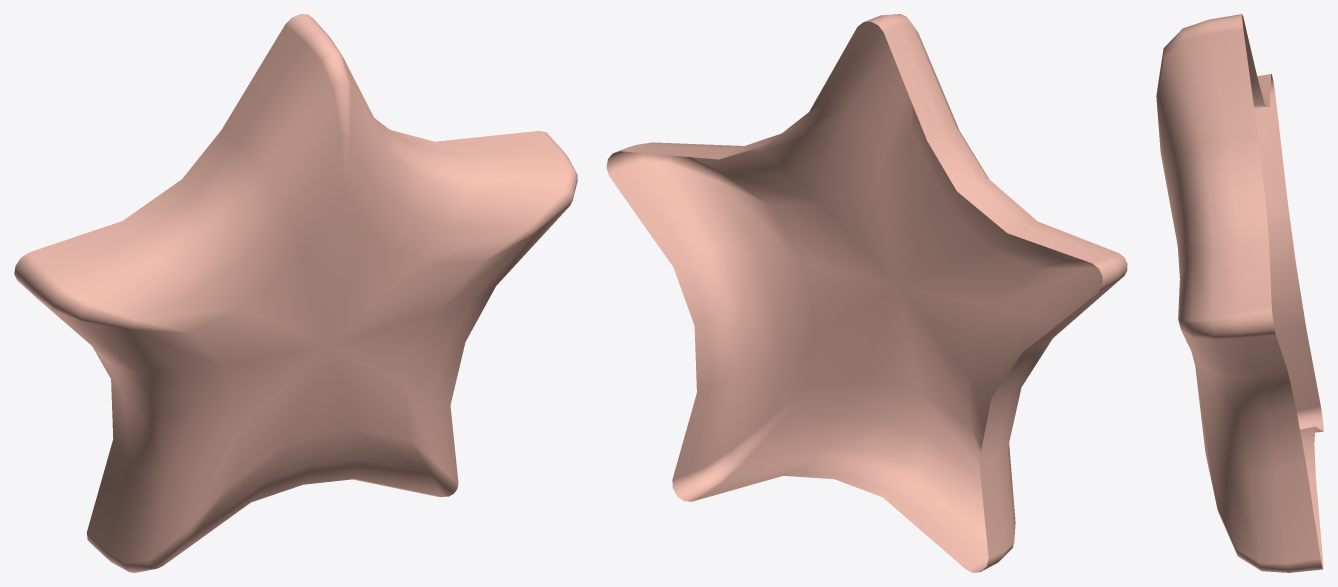
The model's file is Nose B 6.glb.
The picture shows the model from 3 angles, left to right: view 1: azimuth 30°, elevation 25°; view 2: azimuth 150°, elevation 25°; view 3: azimuth 270°, elevation 25°; orthographic projection. The views are drawn at different scales.
Parts seen in each view (by area): view 1: pCylinder5; view 2: pCylinder5; view 3: pCylinder5.
Boxes of the visible parts, x1,y1,x2,y2 form: pCylinder5: (14,14,577,572); pCylinder5: (606,14,1127,572); pCylinder5: (1156,14,1323,572).
Bounding box in the file's own units: 0.000705 × 0.000666 × 0.000207.
